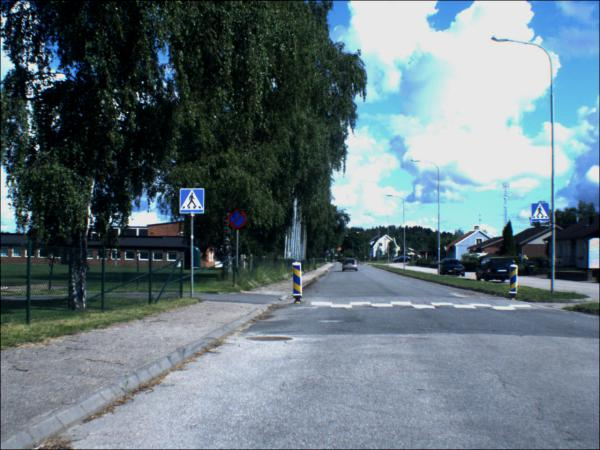NO_PARKING: (229, 211, 247, 231)
PEDESTRIAN_CROSSING: (180, 190, 205, 216), (531, 205, 549, 223)
